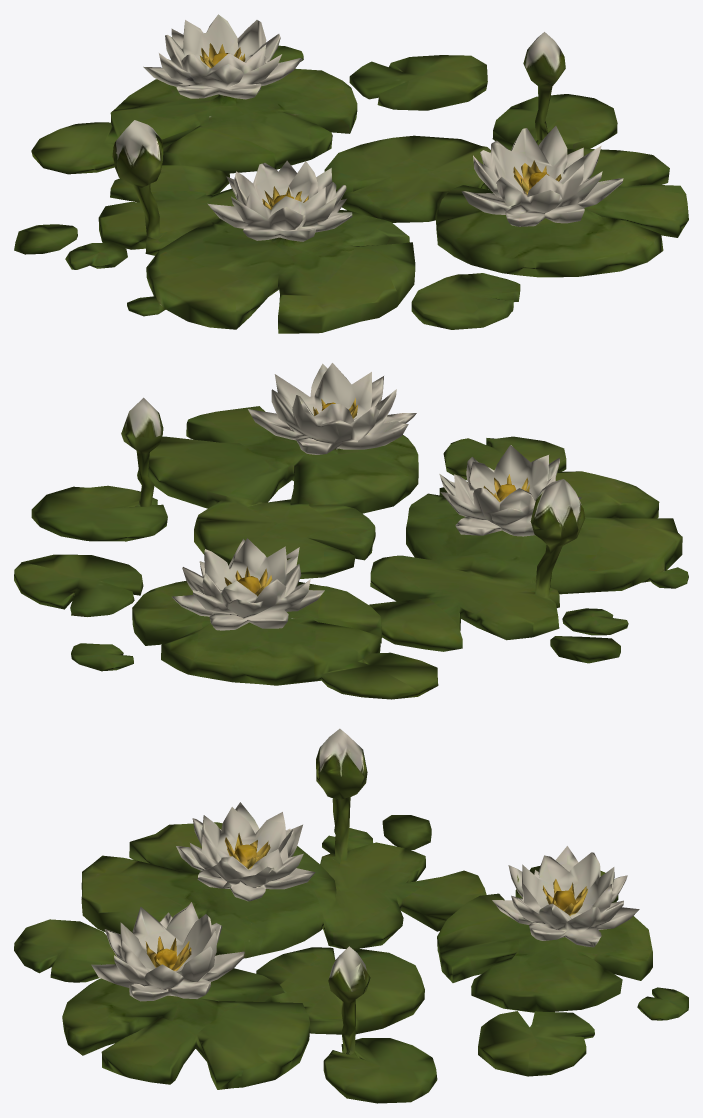
Rendered from fen_lilies.glb.
3 views of the same model, one above another, from view 1: azimuth 30°, elevation 25°; view 2: azimuth 150°, elevation 25°; view 3: azimuth 270°, elevation 25° (orthographic).
Visible parts, largest first — view 1: tripo_node_2d8d6ac0-e531-4d85-a6b2-161369837551; view 2: tripo_node_2d8d6ac0-e531-4d85-a6b2-161369837551; view 3: tripo_node_2d8d6ac0-e531-4d85-a6b2-161369837551.
Boxes of the visible parts, x1=… form: tripo_node_2d8d6ac0-e531-4d85-a6b2-161369837551: x1=14, y1=14, x2=688, y2=333; tripo_node_2d8d6ac0-e531-4d85-a6b2-161369837551: x1=14, y1=363, x2=688, y2=699; tripo_node_2d8d6ac0-e531-4d85-a6b2-161369837551: x1=14, y1=728, x2=688, y2=1103.
Size of the model in its own units: 0.9771 by 0.2151 by 0.9796.
Materials: 1 (1 with a texture image).
